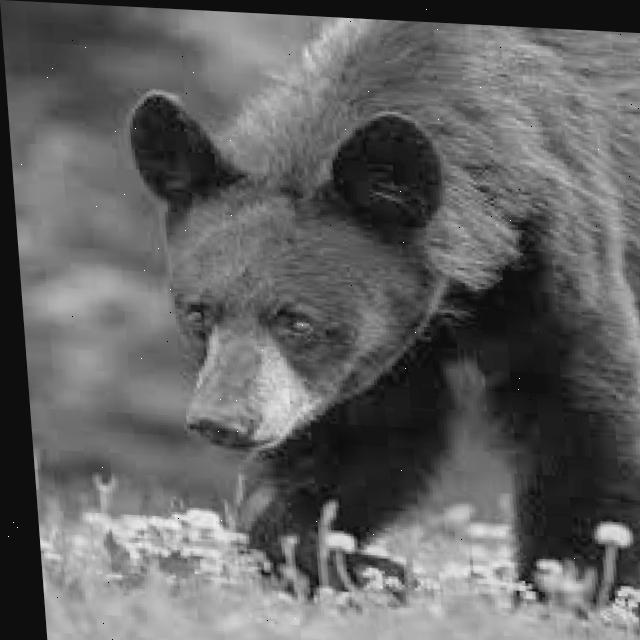Bear: (116, 6, 640, 627)
